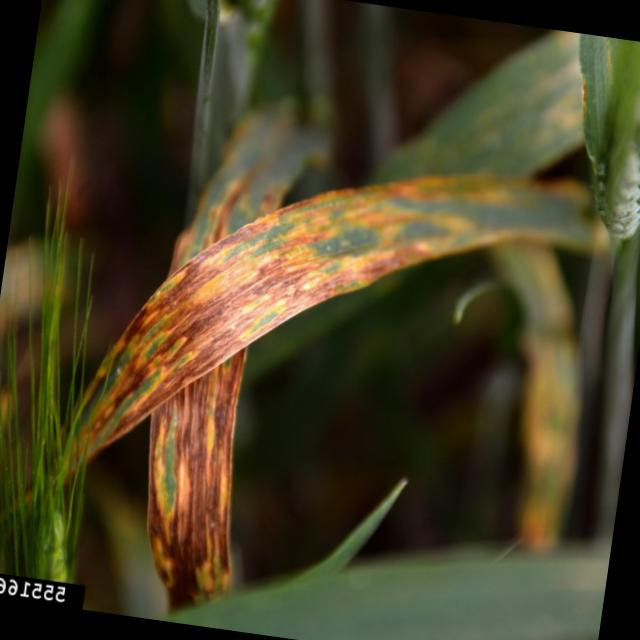leaf_blight: (82, 175, 599, 453), (149, 350, 245, 608)
